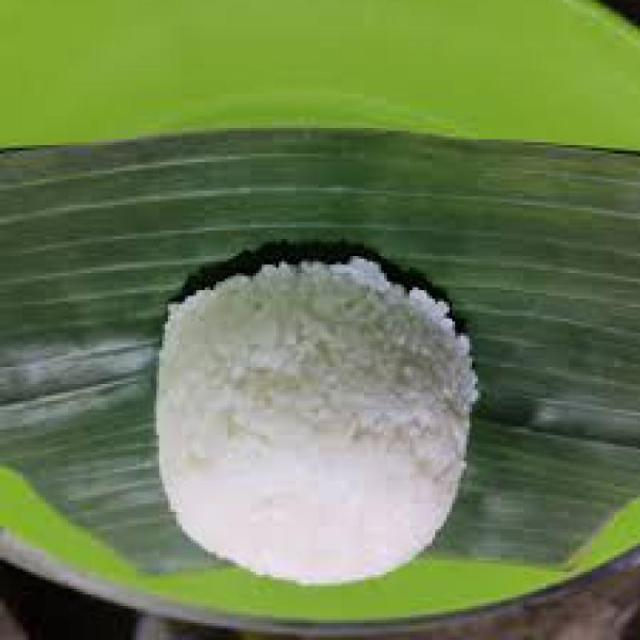nasi_putih: (155, 252, 481, 588)
